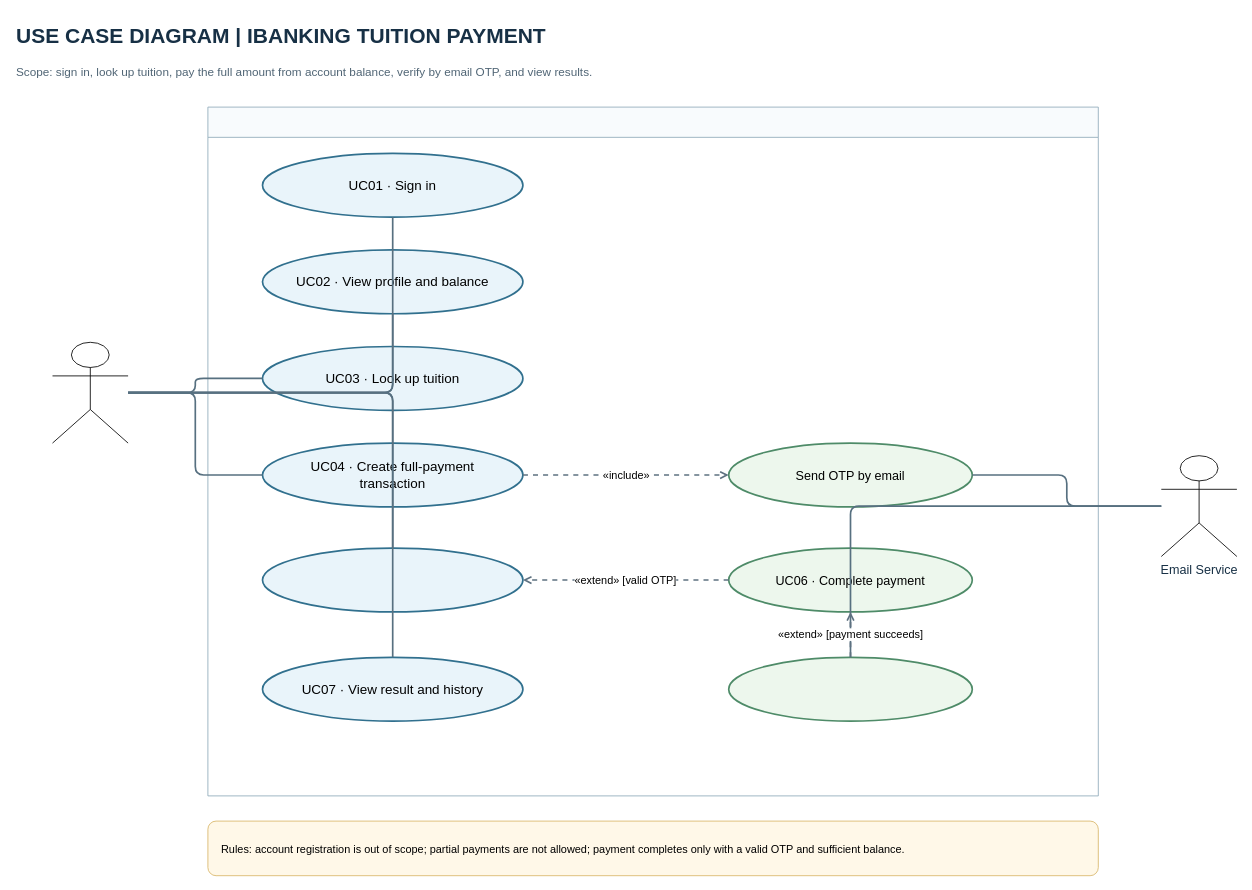
This 1252x890 diagram has some shape labels left out. Here are the shapes that lost their labels. From the top down, the box of each, then its label:
(52, 341, 128, 443): iBanking User
(207, 106, 1098, 796): iBanking Tuition Payment Subsystem
(261, 547, 523, 612): UC05 · Enter and verify OTP
(727, 656, 973, 722): Send payment confirmation
